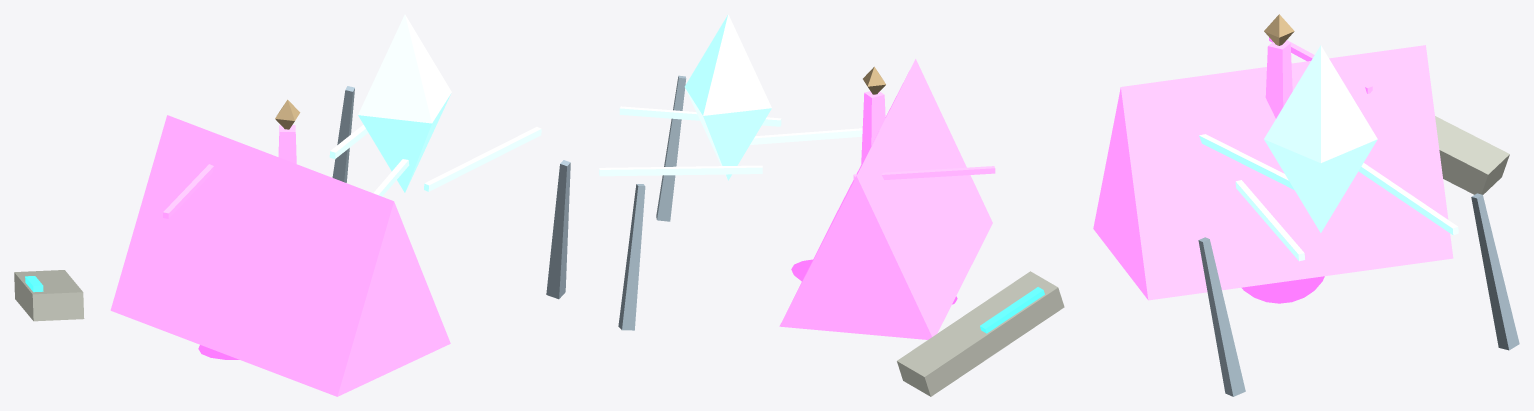
The model's file is elarthalas_high_elf_intrusion_device.glb.
3 views of the same model, side by side, from view 1: azimuth 30°, elevation 25°; view 2: azimuth 150°, elevation 25°; view 3: azimuth 270°, elevation 25° (orthographic). The views are drawn at different scales.
Parts seen in each view (by area): view 1: PREFAB_elarthalas_high_elf_intrusion_device_04_ELAR_ArcaneIn, PREFAB_elarthalas_high_elf_intrusion_device_05_ELAR_ArcaneIn, PREFAB_elarthalas_high_elf_intrusion_device_12_ELAR_ArcaneIn, PREFAB_elarthalas_high_elf_intrusion_device_08_ELAR_ArcaneIn, PREFAB_elarthalas_high_elf_intrusion_device_09_ELAR_ArcaneIn, PREFAB_elarthalas_high_elf_intrusion_device_10_ELAR_ArcaneIn, PREFAB_elarthalas_high_elf_intrusion_device_03_ELAR_ArcaneIn, PREFAB_elarthalas_high_elf_intrusion_device_00_ELAR_ArcaneIn; view 2: PREFAB_elarthalas_high_elf_intrusion_device_04_ELAR_ArcaneIn, PREFAB_elarthalas_high_elf_intrusion_device_12_ELAR_ArcaneIn, PREFAB_elarthalas_high_elf_intrusion_device_05_ELAR_ArcaneIn, PREFAB_elarthalas_high_elf_intrusion_device_10_ELAR_ArcaneIn, PREFAB_elarthalas_high_elf_intrusion_device_08_ELAR_ArcaneIn, PREFAB_elarthalas_high_elf_intrusion_device_11_ELAR_ArcaneIn, PREFAB_elarthalas_high_elf_intrusion_device_00_ELAR_ArcaneIn, PREFAB_elarthalas_high_elf_intrusion_device_07_ELAR_ArcaneIn, PREFAB_elarthalas_high_elf_intrusion_device_03_ELAR_ArcaneIn, PREFAB_elarthalas_high_elf_intrusion_device_09_ELAR_ArcaneIn, PREFAB_elarthalas_high_elf_intrusion_device_13_ELAR_ArcaneIn; view 3: PREFAB_elarthalas_high_elf_intrusion_device_04_ELAR_ArcaneIn, PREFAB_elarthalas_high_elf_intrusion_device_05_ELAR_ArcaneIn, PREFAB_elarthalas_high_elf_intrusion_device_12_ELAR_ArcaneIn, PREFAB_elarthalas_high_elf_intrusion_device_10_ELAR_ArcaneIn, PREFAB_elarthalas_high_elf_intrusion_device_08_ELAR_ArcaneIn, PREFAB_elarthalas_high_elf_intrusion_device_00_ELAR_ArcaneIn, PREFAB_elarthalas_high_elf_intrusion_device_01_ELAR_ArcaneIn, PREFAB_elarthalas_high_elf_intrusion_device_11_ELAR_ArcaneIn, PREFAB_elarthalas_high_elf_intrusion_device_07_ELAR_ArcaneIn, PREFAB_elarthalas_high_elf_intrusion_device_09_ELAR_ArcaneIn, PREFAB_elarthalas_high_elf_intrusion_device_02_ELAR_ArcaneIn.
Part boxes in pixels (left/top/right/bottom): PREFAB_elarthalas_high_elf_intrusion_device_04_ELAR_ArcaneIn: left=110, top=115, right=450, bottom=396; PREFAB_elarthalas_high_elf_intrusion_device_05_ELAR_ArcaneIn: left=358, top=14, right=451, bottom=192; PREFAB_elarthalas_high_elf_intrusion_device_12_ELAR_ArcaneIn: left=14, top=270, right=84, bottom=321; PREFAB_elarthalas_high_elf_intrusion_device_08_ELAR_ArcaneIn: left=546, top=160, right=570, bottom=299; PREFAB_elarthalas_high_elf_intrusion_device_09_ELAR_ArcaneIn: left=424, top=127, right=541, bottom=191; PREFAB_elarthalas_high_elf_intrusion_device_10_ELAR_ArcaneIn: left=332, top=86, right=354, bottom=182; PREFAB_elarthalas_high_elf_intrusion_device_03_ELAR_ArcaneIn: left=163, top=164, right=213, bottom=218; PREFAB_elarthalas_high_elf_intrusion_device_00_ELAR_ArcaneIn: left=278, top=125, right=296, bottom=163; PREFAB_elarthalas_high_elf_intrusion_device_04_ELAR_ArcaneIn: left=779, top=59, right=992, bottom=339; PREFAB_elarthalas_high_elf_intrusion_device_12_ELAR_ArcaneIn: left=897, top=271, right=1064, bottom=396; PREFAB_elarthalas_high_elf_intrusion_device_05_ELAR_ArcaneIn: left=684, top=14, right=771, bottom=180; PREFAB_elarthalas_high_elf_intrusion_device_10_ELAR_ArcaneIn: left=618, top=184, right=645, bottom=330; PREFAB_elarthalas_high_elf_intrusion_device_08_ELAR_ArcaneIn: left=656, top=75, right=686, bottom=221; PREFAB_elarthalas_high_elf_intrusion_device_11_ELAR_ArcaneIn: left=599, top=165, right=762, bottom=176; PREFAB_elarthalas_high_elf_intrusion_device_00_ELAR_ArcaneIn: left=861, top=91, right=885, bottom=165; PREFAB_elarthalas_high_elf_intrusion_device_07_ELAR_ArcaneIn: left=750, top=128, right=862, bottom=144; PREFAB_elarthalas_high_elf_intrusion_device_03_ELAR_ArcaneIn: left=853, top=166, right=995, bottom=180; PREFAB_elarthalas_high_elf_intrusion_device_09_ELAR_ArcaneIn: left=619, top=106, right=781, bottom=126; PREFAB_elarthalas_high_elf_intrusion_device_13_ELAR_ArcaneIn: left=980, top=287, right=1044, bottom=333; PREFAB_elarthalas_high_elf_intrusion_device_04_ELAR_ArcaneIn: left=1093, top=45, right=1453, bottom=300; PREFAB_elarthalas_high_elf_intrusion_device_05_ELAR_ArcaneIn: left=1264, top=45, right=1377, bottom=232; PREFAB_elarthalas_high_elf_intrusion_device_12_ELAR_ArcaneIn: left=1435, top=116, right=1509, bottom=194; PREFAB_elarthalas_high_elf_intrusion_device_10_ELAR_ArcaneIn: left=1471, top=193, right=1519, bottom=350; PREFAB_elarthalas_high_elf_intrusion_device_08_ELAR_ArcaneIn: left=1198, top=237, right=1245, bottom=396; PREFAB_elarthalas_high_elf_intrusion_device_00_ELAR_ArcaneIn: left=1265, top=42, right=1292, bottom=118; PREFAB_elarthalas_high_elf_intrusion_device_01_ELAR_ArcaneIn: left=1241, top=276, right=1324, bottom=303; PREFAB_elarthalas_high_elf_intrusion_device_11_ELAR_ArcaneIn: left=1358, top=163, right=1458, bottom=235; PREFAB_elarthalas_high_elf_intrusion_device_07_ELAR_ArcaneIn: left=1199, top=134, right=1294, bottom=189; PREFAB_elarthalas_high_elf_intrusion_device_09_ELAR_ArcaneIn: left=1235, top=180, right=1304, bottom=261; PREFAB_elarthalas_high_elf_intrusion_device_02_ELAR_ArcaneIn: left=1264, top=14, right=1294, bottom=45.
Size of the model in its own units: 5.03 by 2.72 by 3.59.
